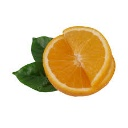orange: (42, 25, 118, 98)
